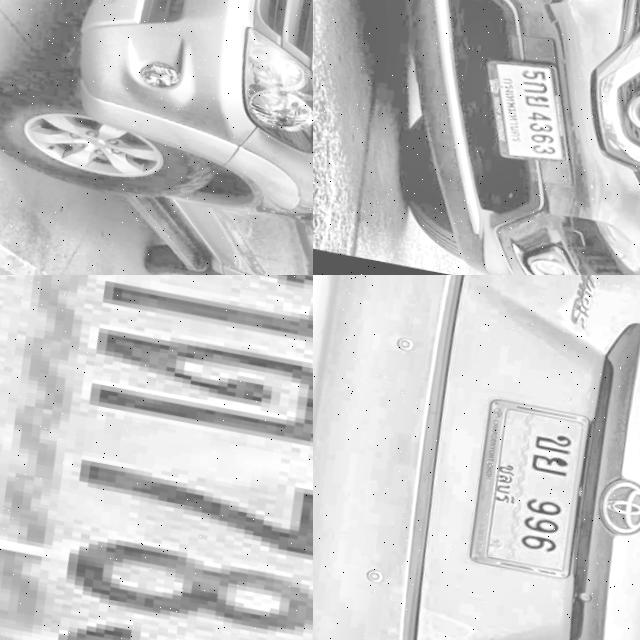license-plate: (0, 275, 313, 640), (456, 392, 600, 581), (469, 47, 581, 168)
